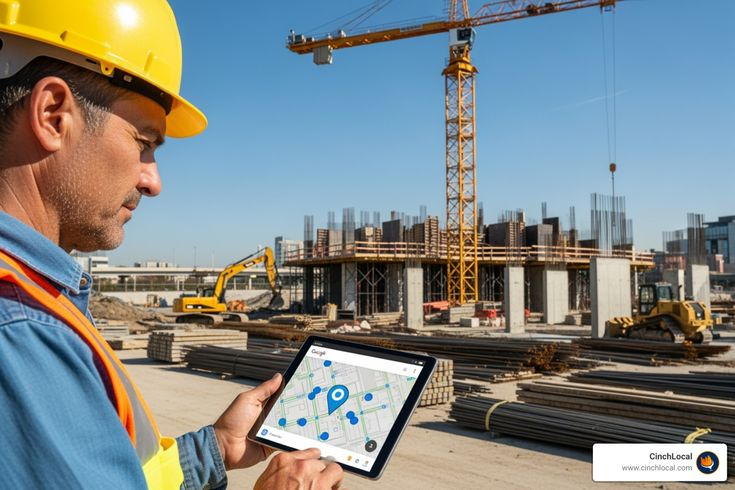crane: (284, 18, 510, 323)
excavator: (170, 238, 290, 328)
hardhat: (8, 17, 240, 126)
person: (3, 17, 347, 485)
